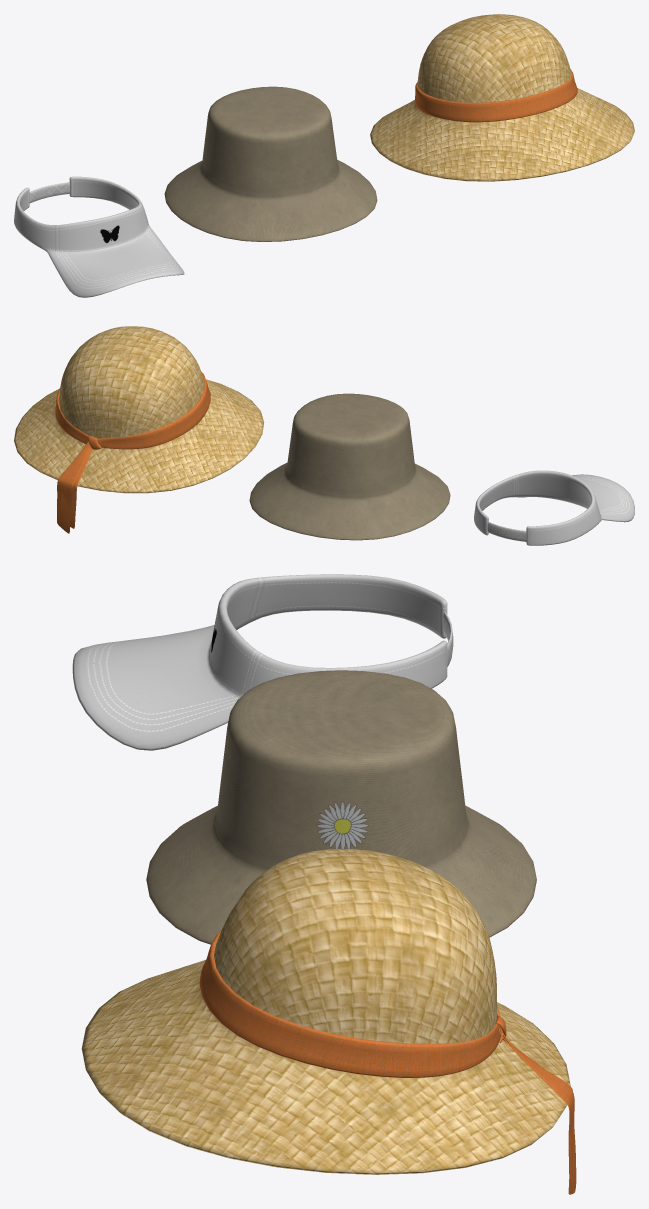
Rendered from HatPack.obj.
3 views of the same model, one above another, from view 1: azimuth 30°, elevation 25°; view 2: azimuth 150°, elevation 25°; view 3: azimuth 270°, elevation 25° (orthographic). The views are drawn at different scales.
Visible parts, largest first — view 1: Cube_Cube.001, Hat3_Hat1.001, Cube.004_Cube, Cube.001_Cube.002, Plane; view 2: Cube_Cube.001, Hat3_Hat1.001, Cube.004_Cube, Cube.001_Cube.002, Plane; view 3: Cube_Cube.001, Hat3_Hat1.001, Cube.004_Cube, Cube.001_Cube.002.
Part boxes in pixels (x1=…): Cube_Cube.001: x1=370, y1=14, x2=634, y2=181; Hat3_Hat1.001: x1=164, y1=86, x2=377, y2=241; Cube.004_Cube: x1=14, y1=176, x2=184, y2=297; Cube.001_Cube.002: x1=414, y1=69, x2=577, y2=122; Plane: x1=29, y1=182, x2=69, y2=203; Cube_Cube.001: x1=14, y1=326, x2=264, y2=493; Hat3_Hat1.001: x1=249, y1=393, x2=450, y2=540; Cube.004_Cube: x1=474, y1=470, x2=634, y2=545; Cube.001_Cube.002: x1=55, y1=372, x2=210, y2=533; Plane: x1=487, y1=521, x2=526, y2=541; Cube_Cube.001: x1=81, y1=849, x2=570, y2=1174; Hat3_Hat1.001: x1=146, y1=670, x2=536, y2=944; Cube.004_Cube: x1=72, y1=574, x2=447, y2=750; Cube.001_Cube.002: x1=199, y1=930, x2=576, y2=1194.
Size of the model in its own units: 10.32 by 2.8 by 4.04.
Materials: 3 (3 with a texture image).
